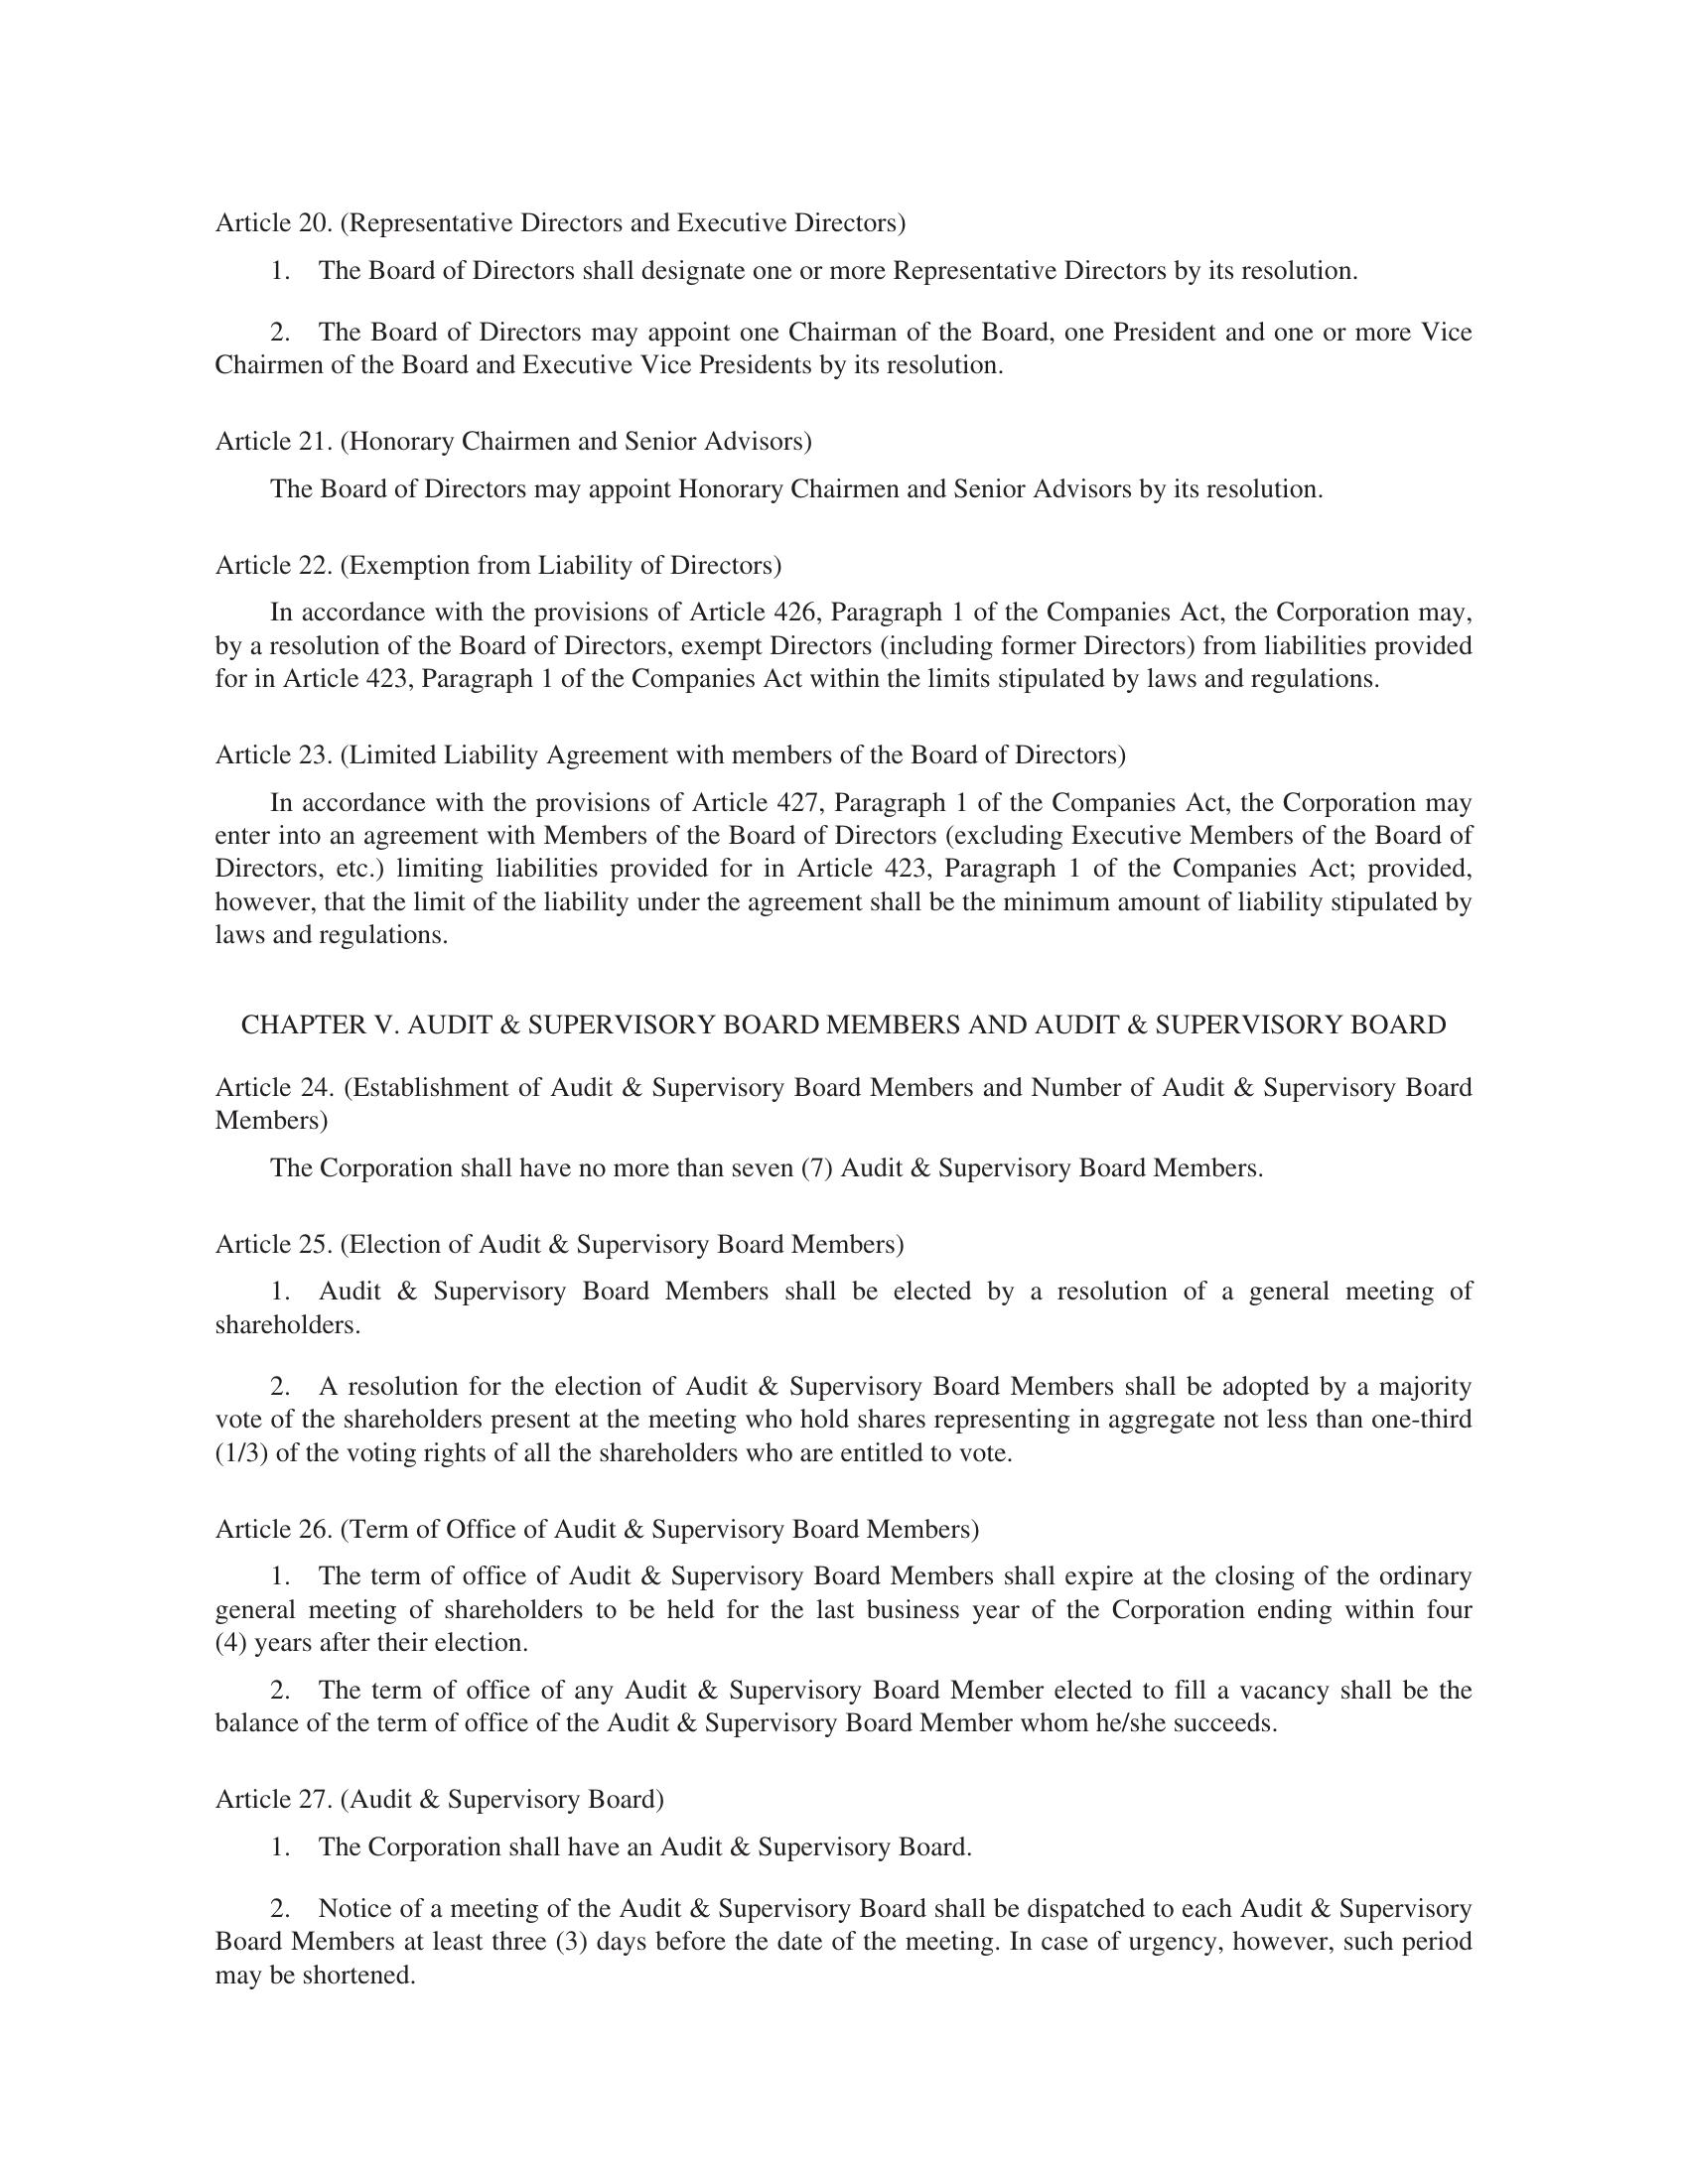Footer: (0, 1996, 1688, 2184)
Header: (0, 0, 1688, 188)
